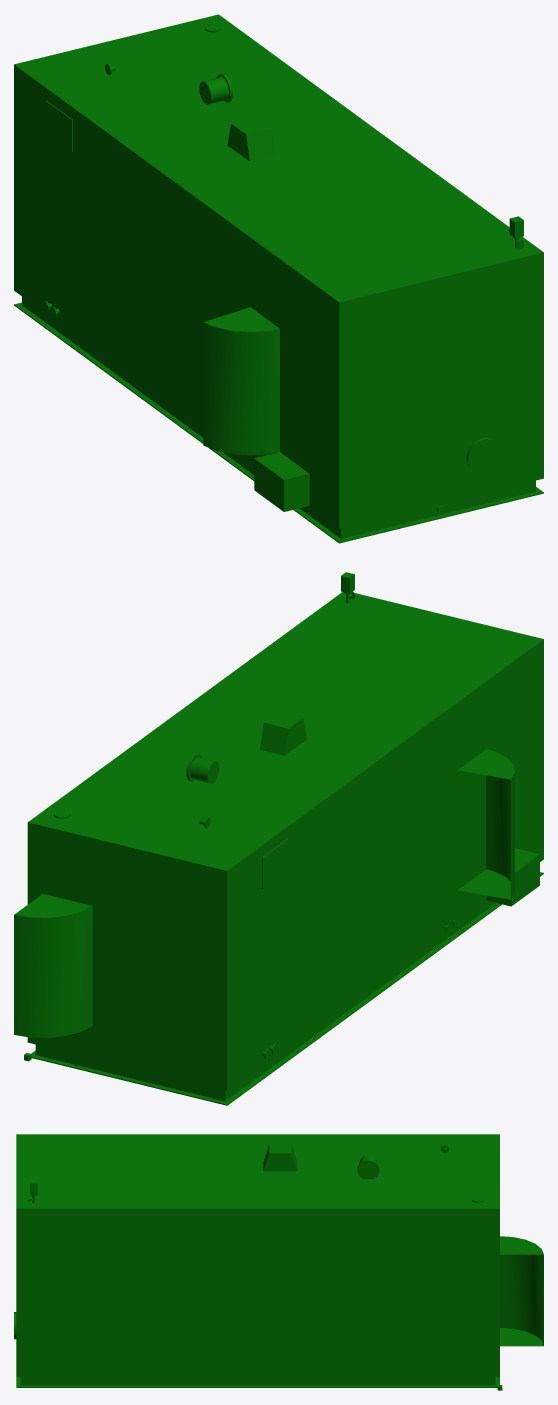
The model's file is Image-1711348098084-2280413585328_82-XA50A.fbx.
3 views of the same model, one above another, from view 1: azimuth 30°, elevation 25°; view 2: azimuth 150°, elevation 25°; view 3: azimuth 270°, elevation 25° (orthographic). The views are drawn at different scales.
Visible parts, largest first — view 1: BOX 1 of SUBEQUIPMENT /82-XA50A/PRIM, RTORUS 1 of SUBEQUIPMENT /82-XA50A/PRIM, BOX 3 of SUBEQUIPMENT /82-XA50A/PRIM, BOX 4 of SUBEQUIPMENT /82-XA50A/PRIM, BOX 5 of SUBEQUIPMENT /82-XA50A/PRIM, PYRAMID 1 of SUBEQUIPMENT /82-XA50A/PRIM, /82-XA50A/MWAY, BOX 3 of SUBEQUIPMENT /82-XA50A/NOZZ, BOX 2 of SUBEQUIPMENT /82-XA50A/PRIM, /82-XA50A/N10; view 2: BOX 1 of SUBEQUIPMENT /82-XA50A/PRIM, RTORUS 2 of SUBEQUIPMENT /82-XA50A/PRIM, RTORUS 1 of SUBEQUIPMENT /82-XA50A/PRIM, BOX 3 of SUBEQUIPMENT /82-XA50A/PRIM, BOX 4 of SUBEQUIPMENT /82-XA50A/PRIM, PYRAMID 1 of SUBEQUIPMENT /82-XA50A/PRIM, BOX 5 of SUBEQUIPMENT /82-XA50A/PRIM, BOX 3 of SUBEQUIPMENT /82-XA50A/NOZZ, BOX 2 of SUBEQUIPMENT /82-XA50A/PRIM, /82-XA50A/N10; view 3: BOX 1 of SUBEQUIPMENT /82-XA50A/PRIM, BOX 3 of SUBEQUIPMENT /82-XA50A/PRIM, RTORUS 2 of SUBEQUIPMENT /82-XA50A/PRIM, BOX 4 of SUBEQUIPMENT /82-XA50A/PRIM, PYRAMID 1 of SUBEQUIPMENT /82-XA50A/PRIM, BOX 2 of SUBEQUIPMENT /82-XA50A/PRIM.
Part boxes in pixels (left/top/right/bottom): BOX 1 of SUBEQUIPMENT /82-XA50A/PRIM: left=14, top=14, right=543, bottom=527; RTORUS 1 of SUBEQUIPMENT /82-XA50A/PRIM: left=203, top=307, right=279, bottom=455; BOX 3 of SUBEQUIPMENT /82-XA50A/PRIM: left=22, top=296, right=535, bottom=538; BOX 4 of SUBEQUIPMENT /82-XA50A/PRIM: left=14, top=302, right=543, bottom=543; BOX 5 of SUBEQUIPMENT /82-XA50A/PRIM: left=254, top=452, right=309, bottom=511; PYRAMID 1 of SUBEQUIPMENT /82-XA50A/PRIM: left=227, top=117, right=275, bottom=161; /82-XA50A/MWAY: left=466, top=438, right=499, bottom=472; BOX 3 of SUBEQUIPMENT /82-XA50A/NOZZ: left=45, top=100, right=72, bottom=151; BOX 2 of SUBEQUIPMENT /82-XA50A/PRIM: left=14, top=289, right=543, bottom=528; /82-XA50A/N10: left=199, top=77, right=228, bottom=104; BOX 1 of SUBEQUIPMENT /82-XA50A/PRIM: left=27, top=592, right=543, bottom=1089; RTORUS 2 of SUBEQUIPMENT /82-XA50A/PRIM: left=14, top=894, right=92, bottom=1037; RTORUS 1 of SUBEQUIPMENT /82-XA50A/PRIM: left=458, top=749, right=514, bottom=899; BOX 3 of SUBEQUIPMENT /82-XA50A/PRIM: left=35, top=901, right=495, bottom=1101; BOX 4 of SUBEQUIPMENT /82-XA50A/PRIM: left=30, top=872, right=543, bottom=1105; PYRAMID 1 of SUBEQUIPMENT /82-XA50A/PRIM: left=260, top=712, right=306, bottom=755; BOX 5 of SUBEQUIPMENT /82-XA50A/PRIM: left=486, top=848, right=539, bottom=906; BOX 3 of SUBEQUIPMENT /82-XA50A/NOZZ: left=262, top=838, right=288, bottom=888; BOX 2 of SUBEQUIPMENT /82-XA50A/PRIM: left=27, top=858, right=543, bottom=1090; /82-XA50A/N10: left=190, top=757, right=219, bottom=783; BOX 1 of SUBEQUIPMENT /82-XA50A/PRIM: left=16, top=1134, right=499, bottom=1375; BOX 3 of SUBEQUIPMENT /82-XA50A/PRIM: left=20, top=1376, right=495, bottom=1385; RTORUS 2 of SUBEQUIPMENT /82-XA50A/PRIM: left=500, top=1236, right=543, bottom=1346; BOX 4 of SUBEQUIPMENT /82-XA50A/PRIM: left=16, top=1376, right=499, bottom=1387; PYRAMID 1 of SUBEQUIPMENT /82-XA50A/PRIM: left=263, top=1144, right=297, bottom=1171; BOX 2 of SUBEQUIPMENT /82-XA50A/PRIM: left=16, top=1376, right=499, bottom=1376.
Bounding box in the file's own units: 5.04 × 12.05 × 5.07.
